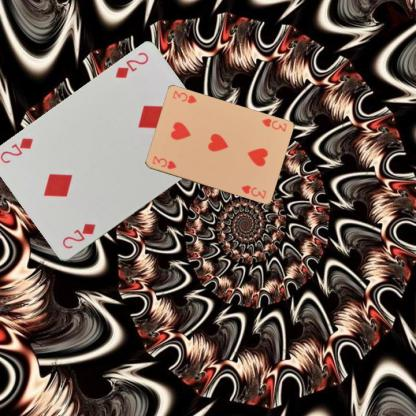2d: (112, 50, 150, 80), (60, 221, 97, 250)
3h: (259, 116, 288, 133), (150, 153, 177, 171)
